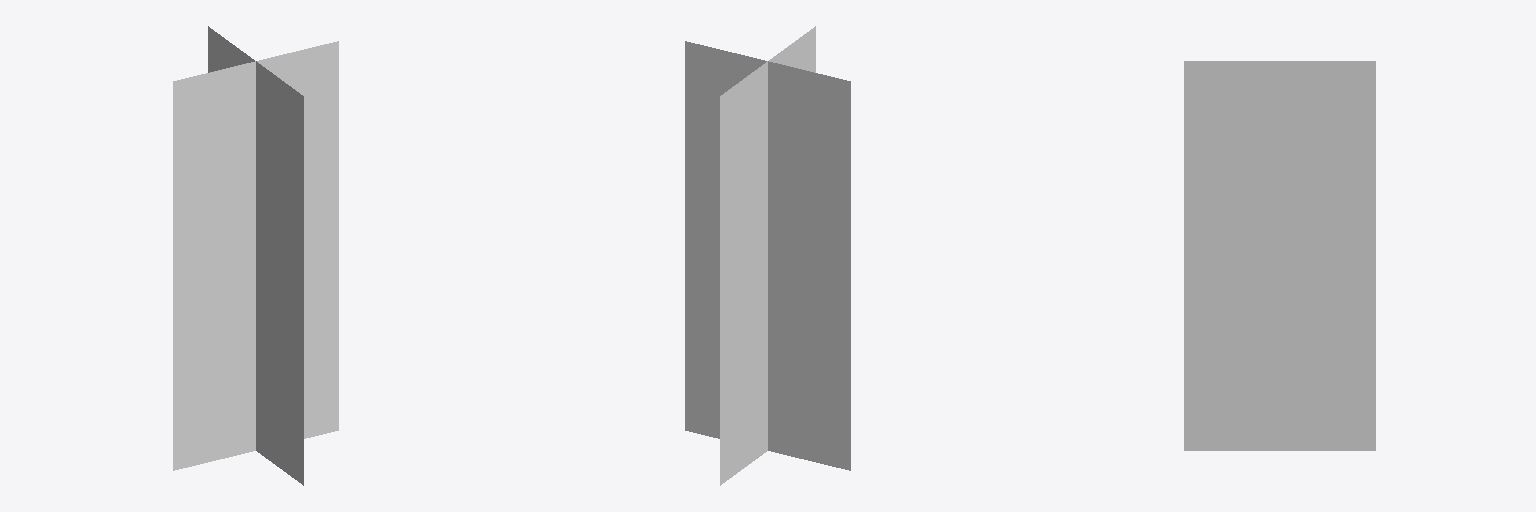
The model's file is Scots_Pine_Fan_0.obj.
3 renders of one model, left to right at view 1: azimuth 30°, elevation 25°; view 2: azimuth 150°, elevation 25°; view 3: azimuth 270°, elevation 25°, orthographic.
Parts seen in each view (by area): view 1: CreateFan; view 2: CreateFan; view 3: CreateFan.
Boxes of the visible parts, box(x1,y1,x2,y2) form: CreateFan: box(173, 26, 338, 485); CreateFan: box(685, 26, 850, 485); CreateFan: box(1184, 61, 1375, 450).
Bounding box in the file's own units: 14.34 × 32 × 14.34.